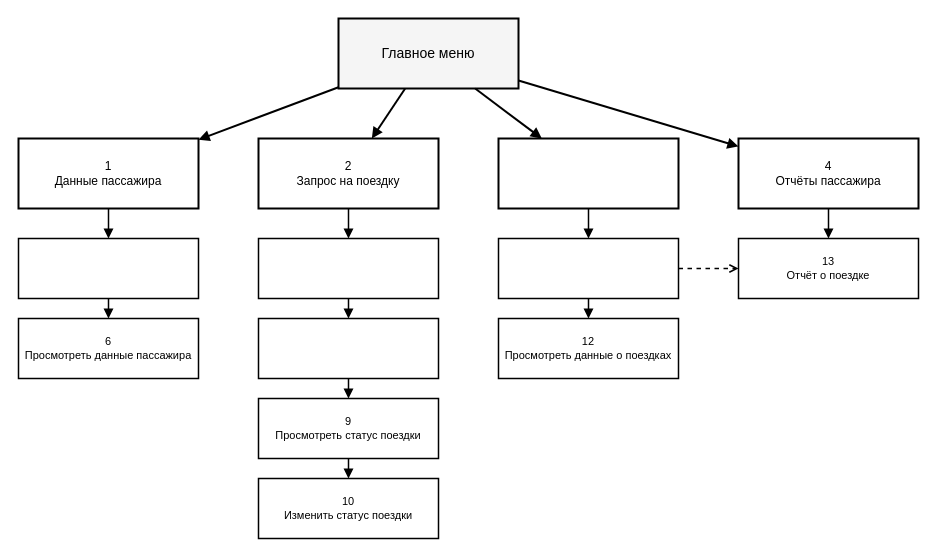
This 936x556 diagram has some shape labels left out. Here are the shapes that lost their labels. From the top down, the centre of each, then its label:
At (588,173): "3 Поездки".
At (108,268): "5 Внести данные пассажира".
At (348,268): "7 Просмотреть статус запроса".
At (588,268): "11 Просмотреть поездки".
At (348,348): "8 Изменить статус запроса".
